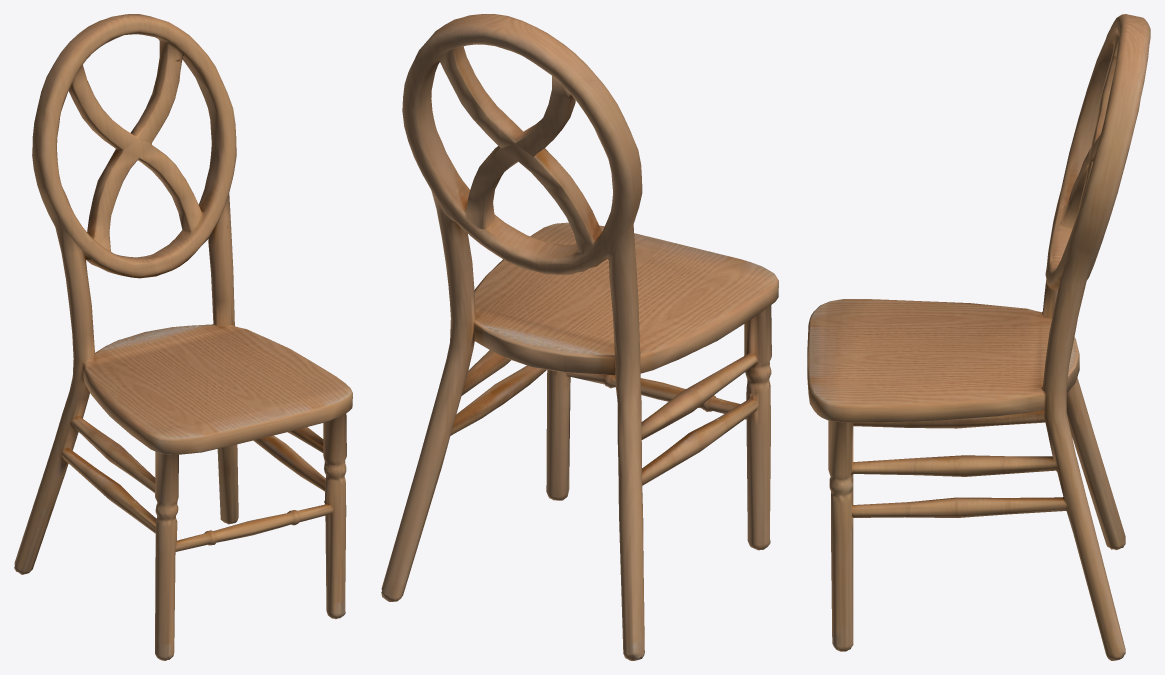
Rendered from Infinity_Fruitwood_Chair_35InTall_0208185123_texture.glb.
3 renders of one model, left to right at view 1: azimuth 30°, elevation 25°; view 2: azimuth 150°, elevation 25°; view 3: azimuth 270°, elevation 25°, orthographic. The views are drawn at different scales.
Visible parts, largest first — view 1: Mesh_0; view 2: Mesh_0; view 3: Mesh_0.
Part boxes in pixels (x1=…): Mesh_0: x1=14, y1=14, x2=352, y2=660; Mesh_0: x1=381, y1=14, x2=778, y2=660; Mesh_0: x1=807, y1=14, x2=1150, y2=660.
Size of the model in its own units: 0.3925 by 0.889 by 0.4764.
1 material, 1 textured.
